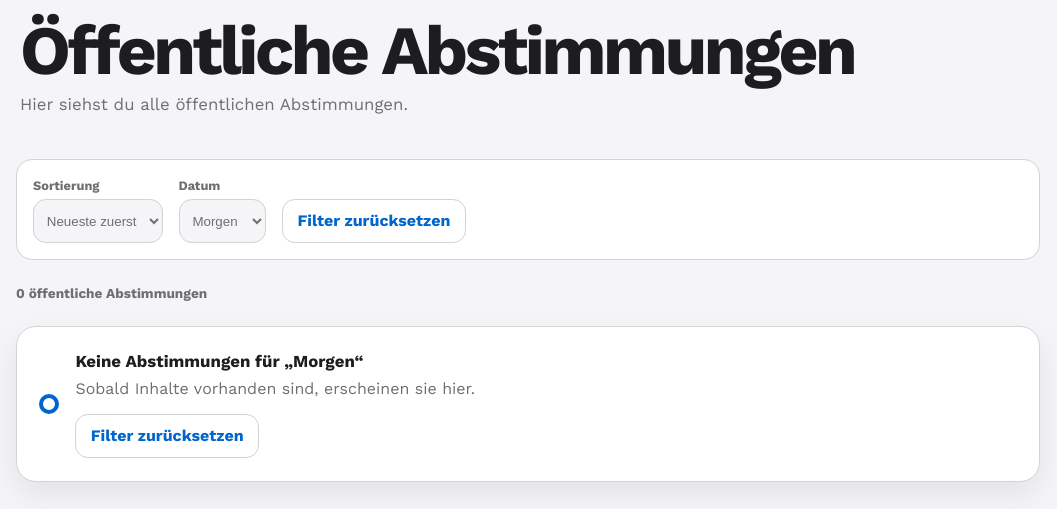
Test case: PollsPage filter empty state › names the active filter without matches and resets to all polls
expect the heading "Keine Abstimmungen für „Morgen“" is shown: met, box x1=75 y1=351 x2=364 y2=371
Click the button "Filter zurücksetzen" below "Keine Abstimmungen für „Morgen“": (167, 436) x1=75 y1=414 x2=259 y2=458
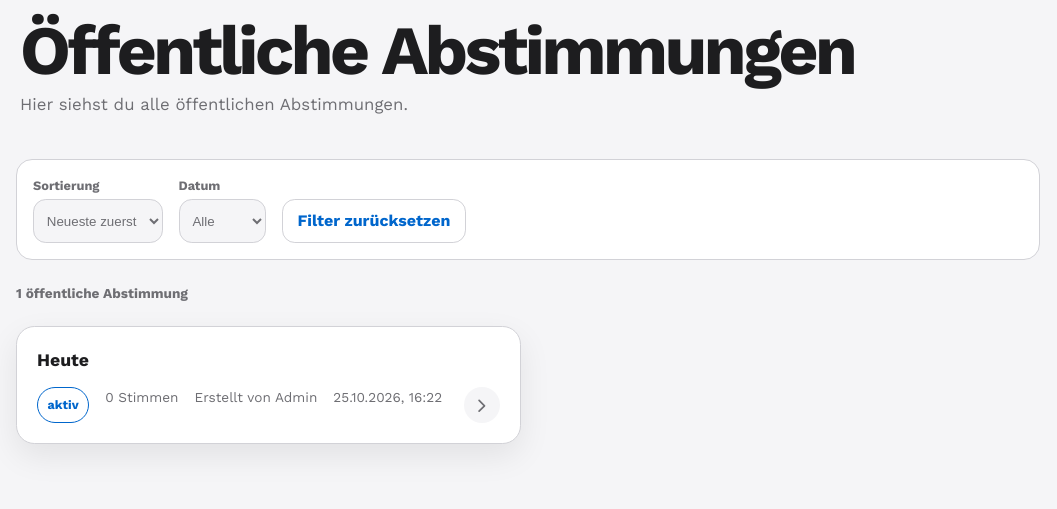
expect the link "Heute aktiv 0 Stimmen Erstellt von Admin 25.10.2026, 16:22" is shown: met, box x1=16 y1=326 x2=521 y2=444
expect the dropdown labelled "Datum" shows "Alle": met, box x1=179 y1=200 x2=266 y2=244
